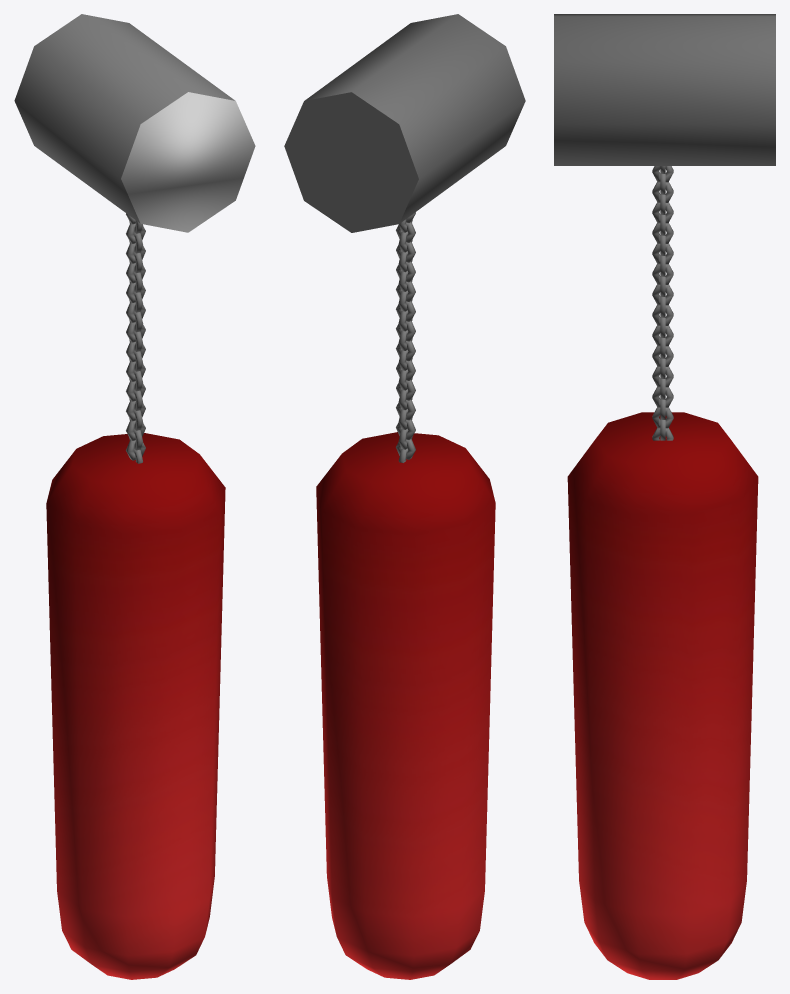
Rendered from BOX_BAG.fbx.
The picture shows the model from 3 angles, left to right: view 1: azimuth 30°, elevation 25°; view 2: azimuth 150°, elevation 25°; view 3: azimuth 270°, elevation 25°; orthographic projection. The views are drawn at different scales.
Visible parts, largest first — view 1: Circle.002, Circle; view 2: Circle.002, Circle; view 3: Circle.002, Circle.
Boxes of the visible parts, x1,y1,x2,y2 form: Circle.002: (46,213,225,979); Circle: (14,14,255,232); Circle.002: (316,212,495,979); Circle: (284,14,525,232); Circle.002: (567,166,758,979); Circle: (554,14,775,165).
Bounding box in the file's own units: 75.07 × 432 × 91.81.
